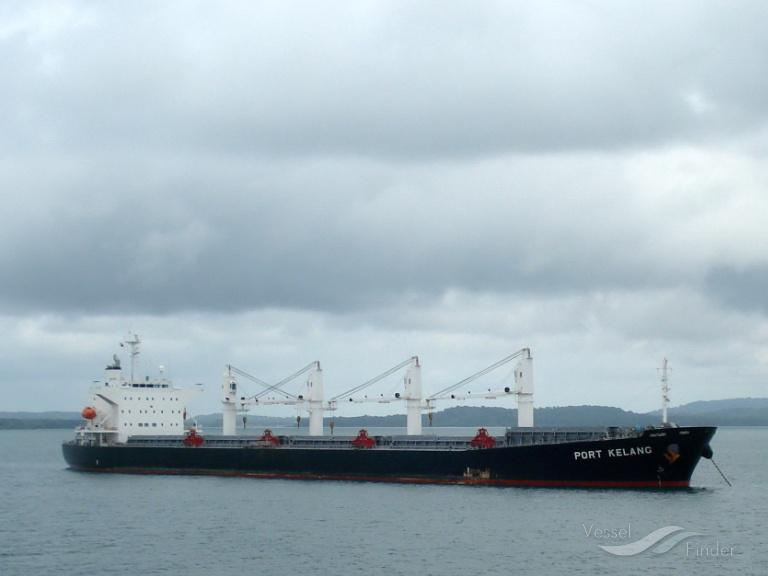OCR: (569, 443, 656, 464)
